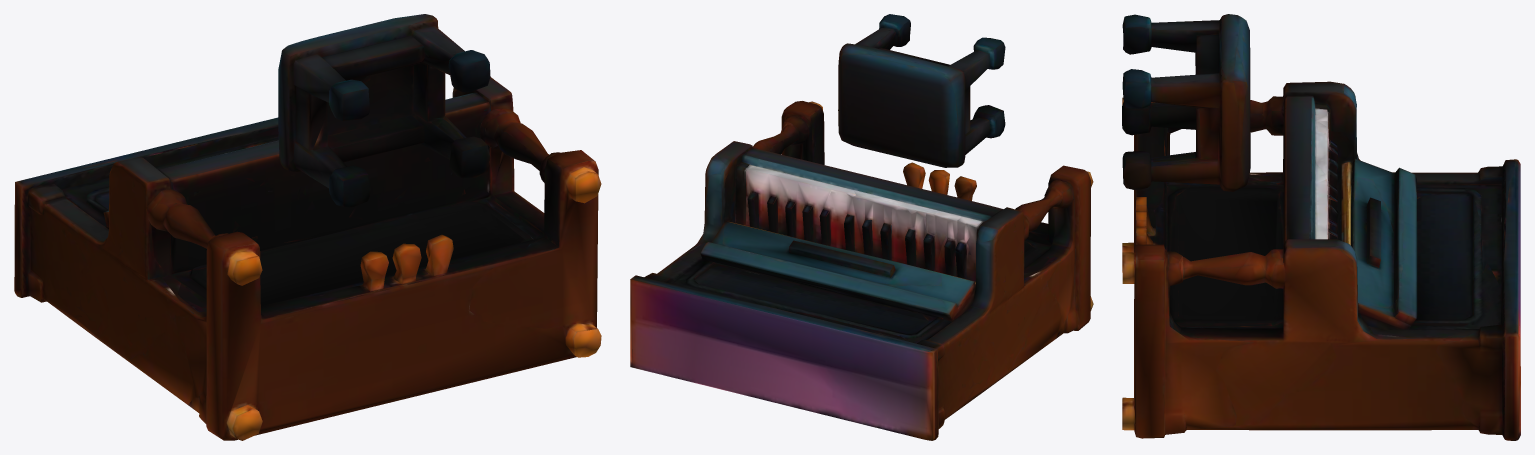
3 views of the same model, side by side, from view 1: azimuth 30°, elevation 25°; view 2: azimuth 150°, elevation 25°; view 3: azimuth 270°, elevation 25° (orthographic). The views are drawn at different scales.
Visible parts, largest first — view 1: material; view 2: material; view 3: material.
Part boxes in pixels (bbox=[...]): material: bbox=[14, 14, 601, 440]; material: bbox=[630, 14, 1093, 440]; material: bbox=[1122, 14, 1520, 440].
Size of the model in its own units: 1 by 0.8232 by 0.9558.
Materials: 1 (1 with a texture image).
